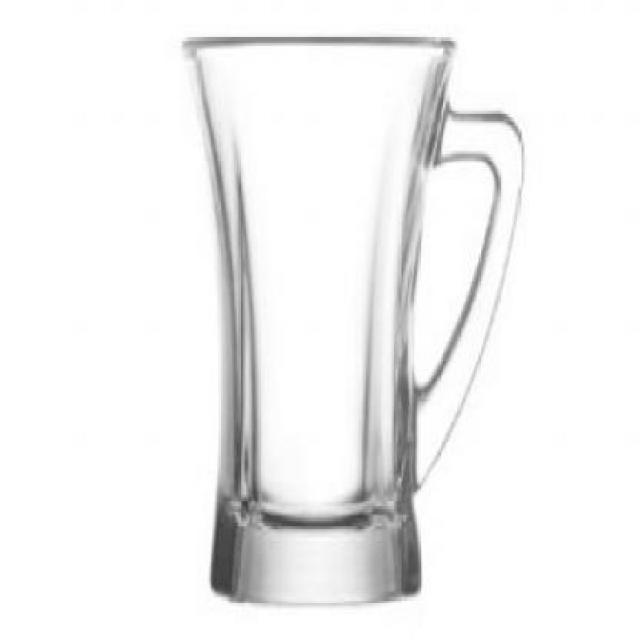taza: (78, 133, 580, 542)
